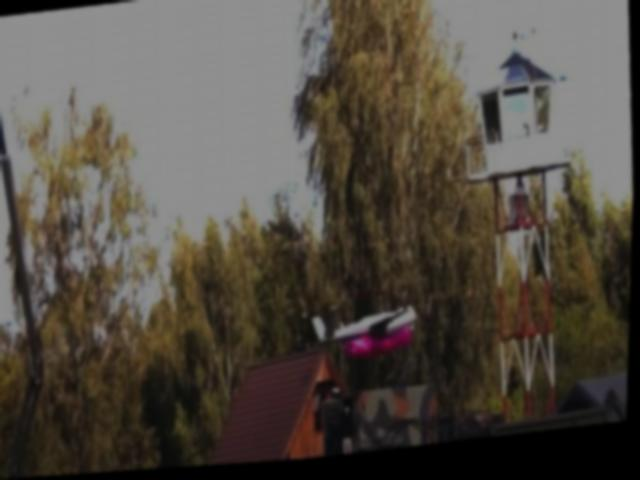iha: (314, 300, 426, 349)
